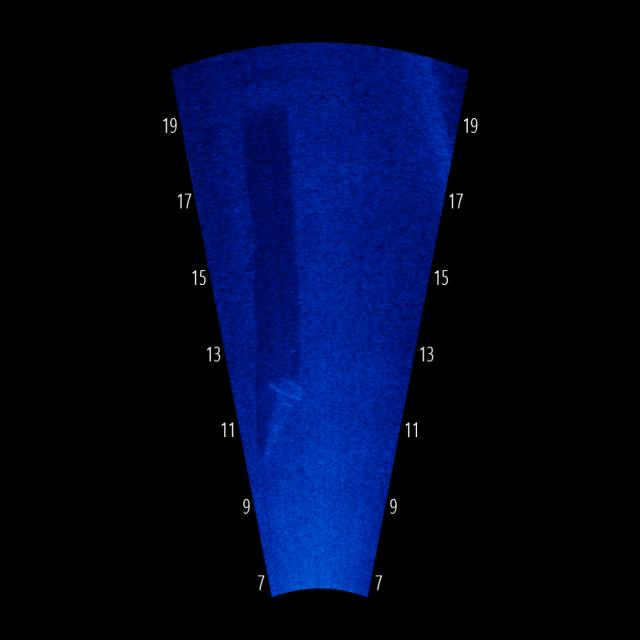triangle: (253, 367, 306, 472)
